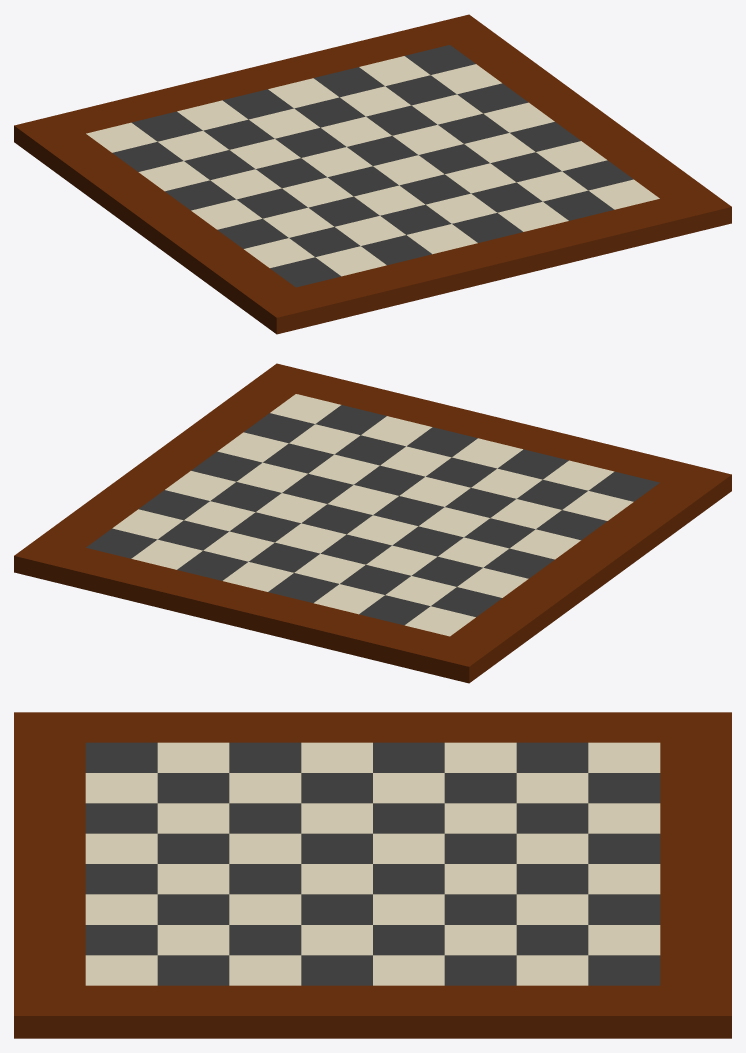
The model's file is chessBoard.dae.
3 renders of one model, top to bottom at view 1: azimuth 30°, elevation 25°; view 2: azimuth 150°, elevation 25°; view 3: azimuth 270°, elevation 25°, orthographic. The views are drawn at different scales.
Parts seen in each view (by area): view 1: Cube_006; view 2: Cube_006; view 3: Cube_006.
Boxes of the visible parts, left/top/right/bottom form: Cube_006: left=14, top=14, right=731, bottom=334; Cube_006: left=14, top=363, right=731, bottom=683; Cube_006: left=14, top=712, right=731, bottom=1038.
Size of the model in its own units: 0.5461 by 0.5461 by 0.0191.
